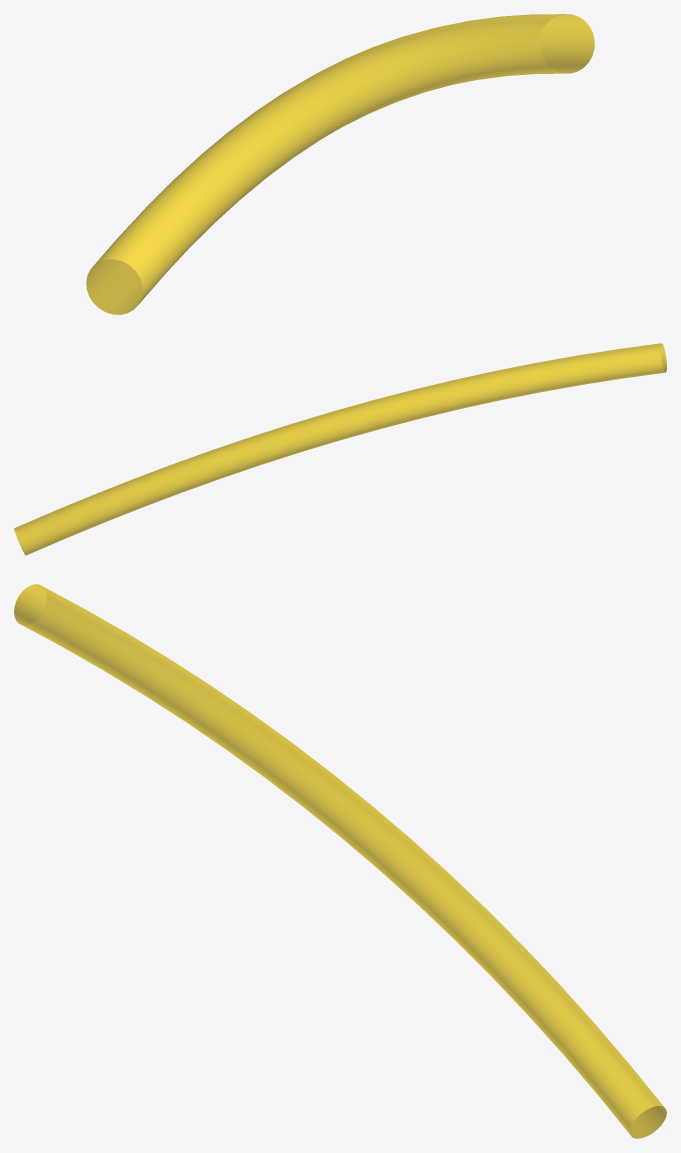
The model's file is Event_27938768_track_61.fbx.
3 renders of one model, top to bottom at view 1: azimuth 30°, elevation 25°; view 2: azimuth 150°, elevation 25°; view 3: azimuth 270°, elevation 25°, orthographic. The views are drawn at different scales.
Parts seen in each view (by area): view 1: Model; view 2: Model; view 3: Model.
Part boxes in pixels (bbox=[...]): Model: bbox=[86, 14, 594, 314]; Model: bbox=[14, 343, 666, 555]; Model: bbox=[14, 584, 666, 1138].
Size of the model in its own units: 0.6983 by 0.241 by 0.5898.
